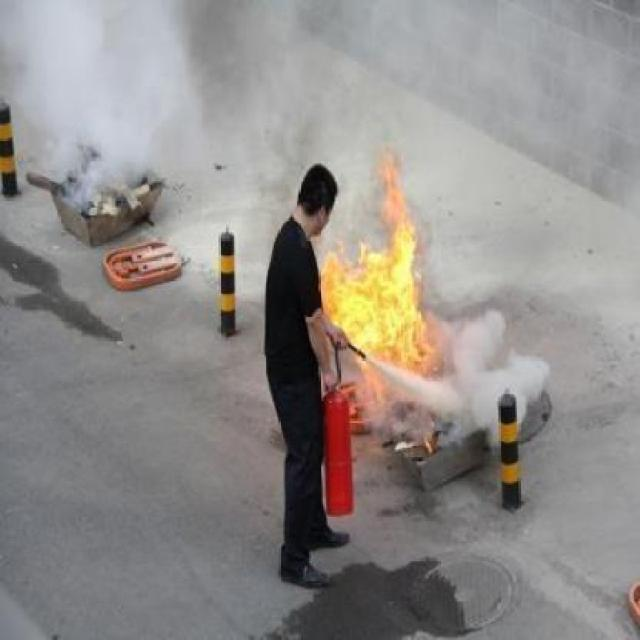Fire: (315, 145, 451, 432)
